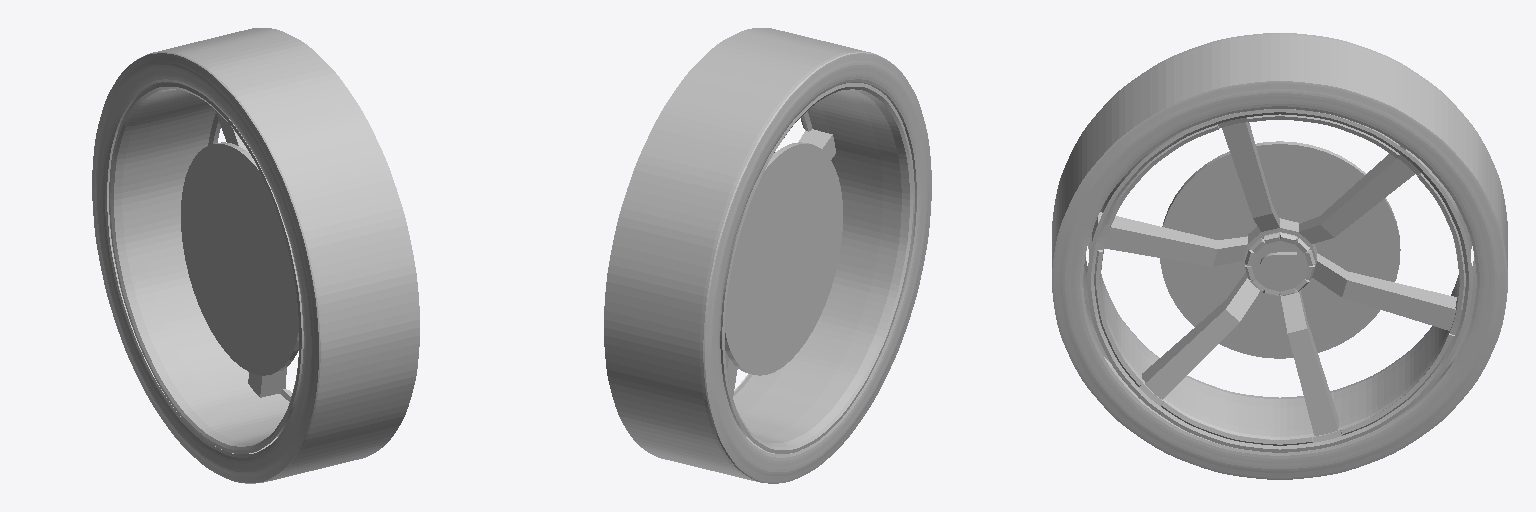
Rendered from disk_g.obj.
3 renders of one model, left to right at view 1: azimuth 30°, elevation 25°; view 2: azimuth 150°, elevation 25°; view 3: azimuth 270°, elevation 25°, orthographic.
Visible parts, largest first — view 1: Cylinder.001, Mesh.001, Mesh_(2).001; view 2: Cylinder.001, Mesh.001, Mesh_(2).001; view 3: Cylinder.001, Mesh_(2).001, Mesh.001.
Part boxes in pixels (bbox=[...]): Cylinder.001: bbox=[92, 28, 419, 483]; Mesh.001: bbox=[109, 83, 303, 453]; Mesh_(2).001: bbox=[181, 110, 298, 397]; Cylinder.001: bbox=[604, 28, 931, 483]; Mesh.001: bbox=[720, 83, 914, 453]; Mesh_(2).001: bbox=[725, 129, 842, 396]; Cylinder.001: bbox=[1052, 33, 1507, 479]; Mesh_(2).001: bbox=[1092, 112, 1456, 435]; Mesh.001: bbox=[1087, 109, 1472, 452].
Size of the model in its own units: 0.7837 by 2.88 by 2.99.